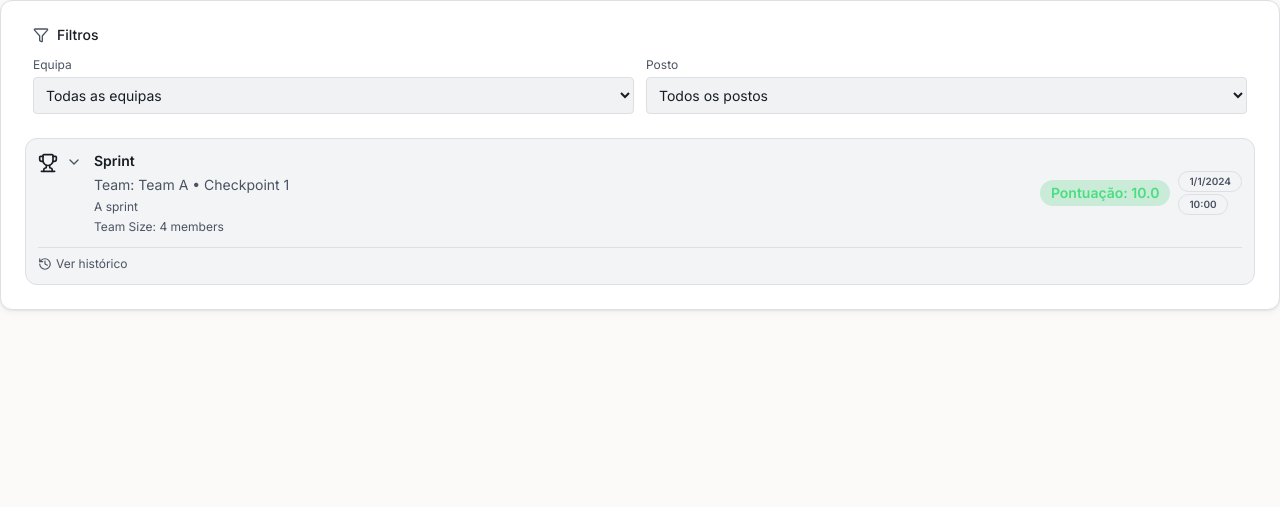
it: AllEvaluations › renders TeamVsActivity lose result badge without opponent id
Click the button "Sprint" at (114, 160), box [38,151,1028,235]
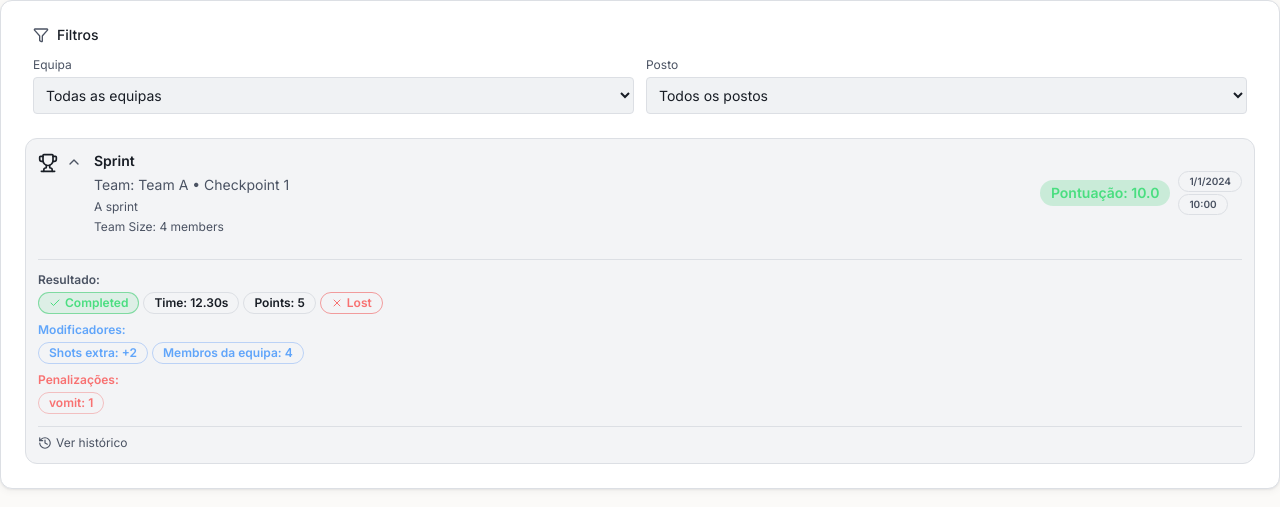
Now the text "Lost" is shown, box [320,292,383,314]
